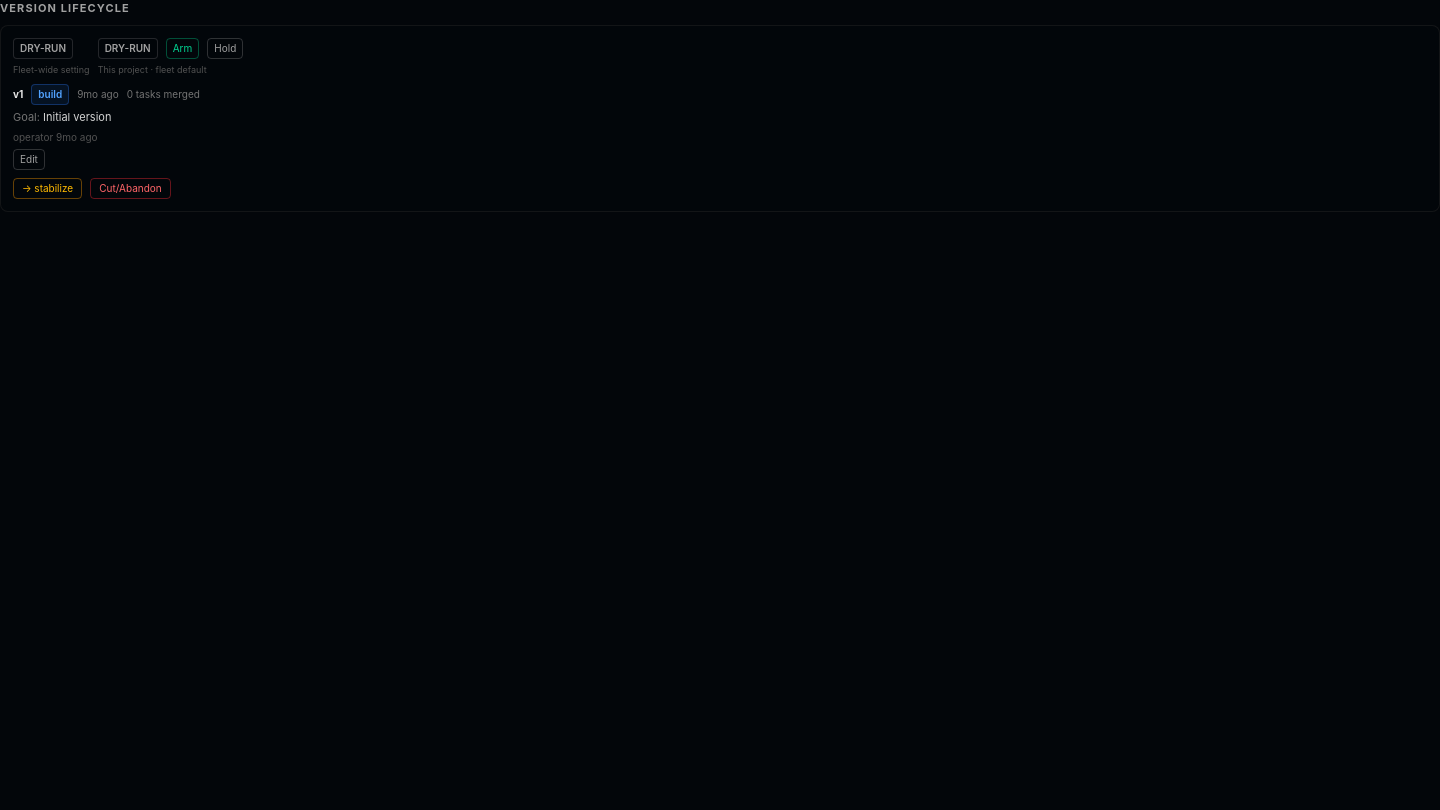
Test case: VersionLifecyclePanel › closes an owner-only promotion confirmation when access is downgraded
The width and height of the screenshot is (1440, 810).
Click the button "Arm" at (182, 48), box [166,38,199,58]
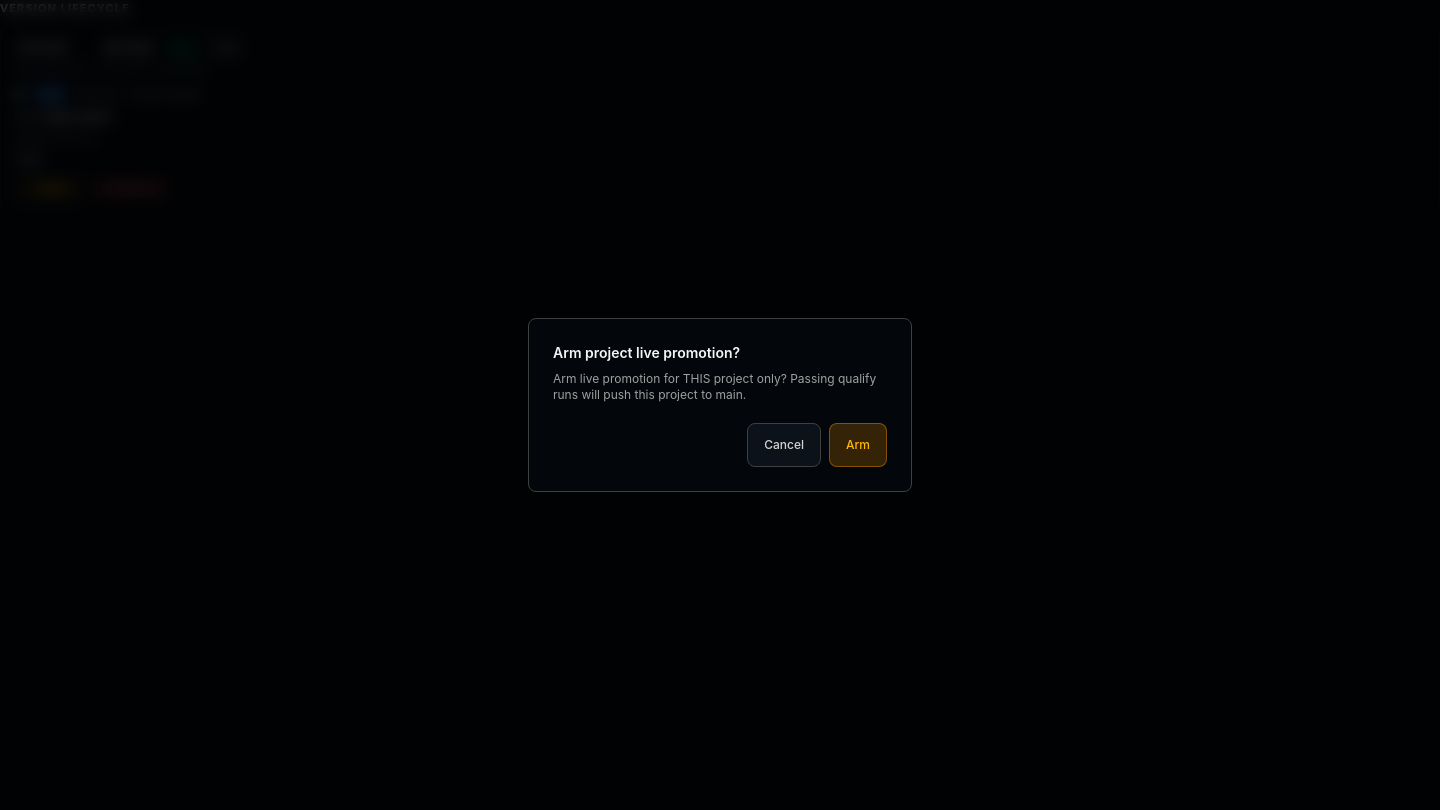
Expected: the heading "Arm project live promotion?" is shown, [553,344,740,361]
